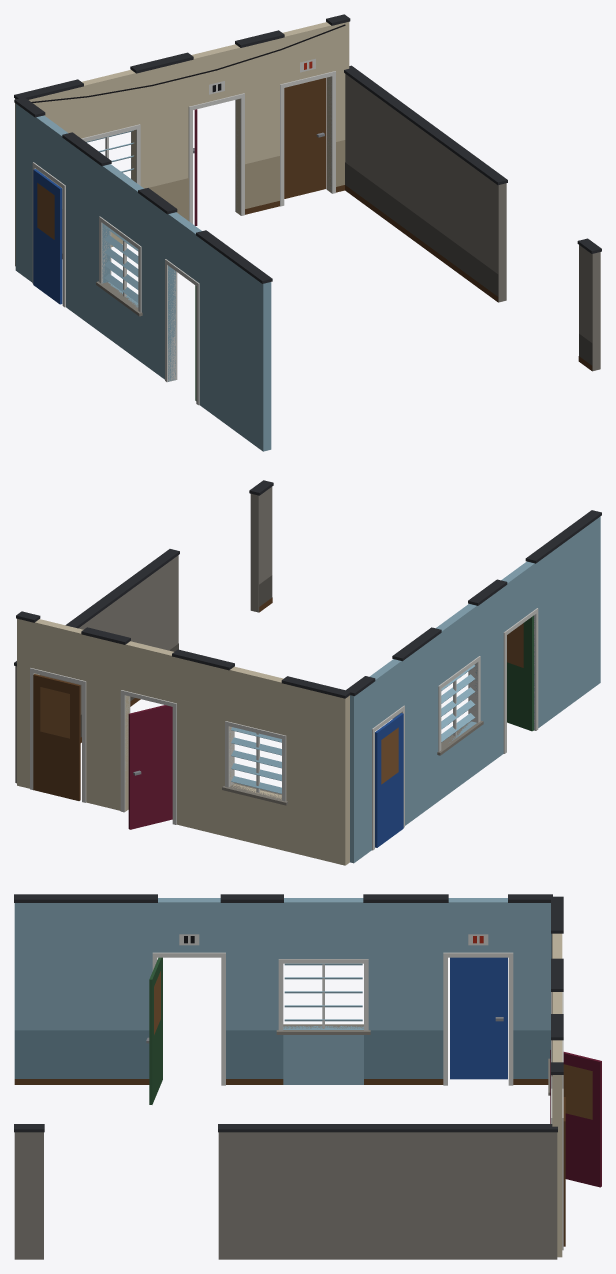
The model's file is bld_home-room-yard.glb.
3 views of the same model, one above another, from view 1: azimuth 30°, elevation 25°; view 2: azimuth 150°, elevation 25°; view 3: azimuth 270°, elevation 25° (orthographic). The views are drawn at different scales.
Visible parts, largest first — view 1: body; view 2: body; view 3: body.
Boxes of the visible parts, x1,y1,x2,y2 form: body: [14, 14, 601, 451]; body: [14, 480, 601, 865]; body: [14, 894, 601, 1259].
Size of the model in its own units: 6.38 by 3.05 by 8.75.
